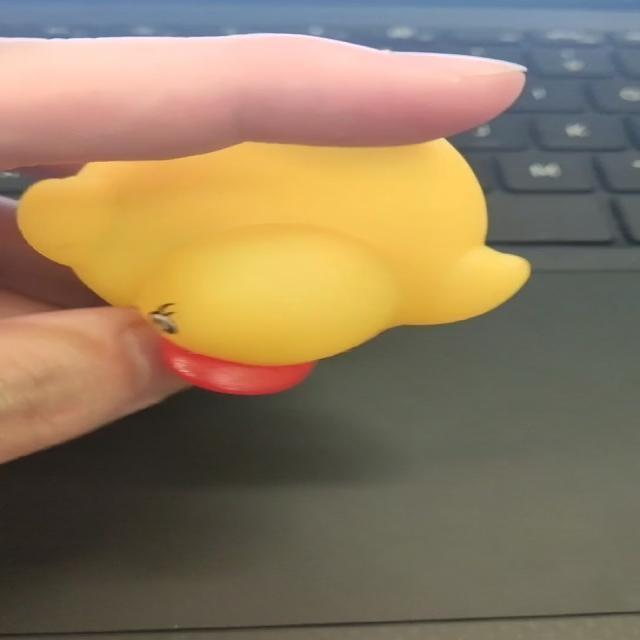rubber-duck: (17, 138, 528, 391)
